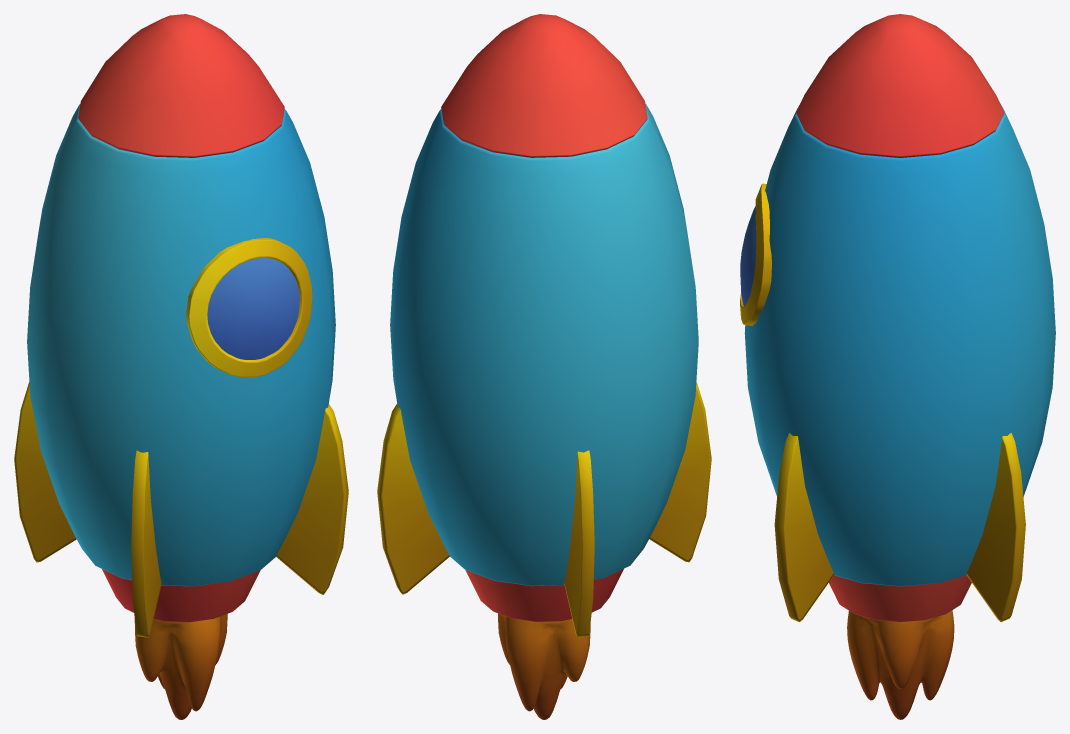
File: Rocket.fbx
The picture shows the model from 3 angles, left to right: view 1: azimuth 30°, elevation 25°; view 2: azimuth 150°, elevation 25°; view 3: azimuth 270°, elevation 25°; orthographic projection.
Parts seen in each view (by area): view 1: Rocket_Rocket_0, Fire_Fire_0; view 2: Rocket_Rocket_0, Fire_Fire_0; view 3: Rocket_Rocket_0, Fire_Fire_0.
Part boxes in pixels (x1,y1,x2,y2): Rocket_Rocket_0: (14, 14, 348, 637); Fire_Fire_0: (134, 614, 227, 719); Rocket_Rocket_0: (377, 14, 711, 637); Fire_Fire_0: (498, 613, 590, 719); Rocket_Rocket_0: (740, 14, 1055, 622); Fire_Fire_0: (847, 610, 954, 719).
Bounding box in the file's own units: 51.06 × 127 × 51.82.
1 material, 1 textured.
